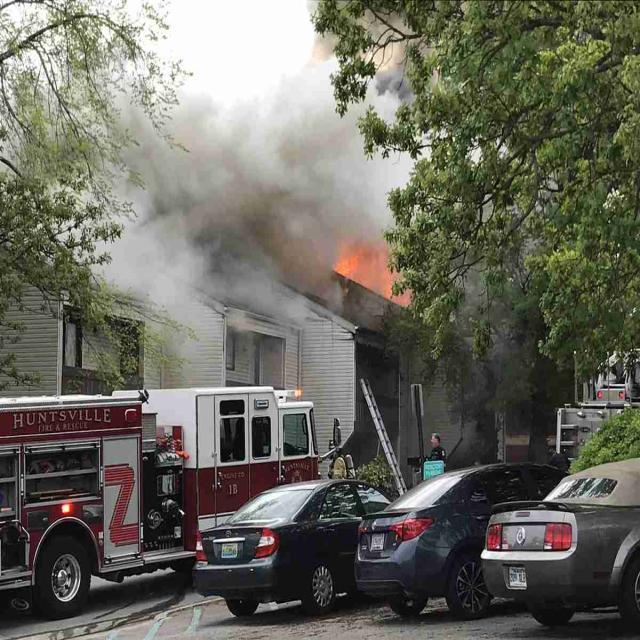Fire: (332, 240, 408, 308)
Smoke: (185, 68, 392, 236), (104, 238, 332, 311), (130, 92, 183, 238)
